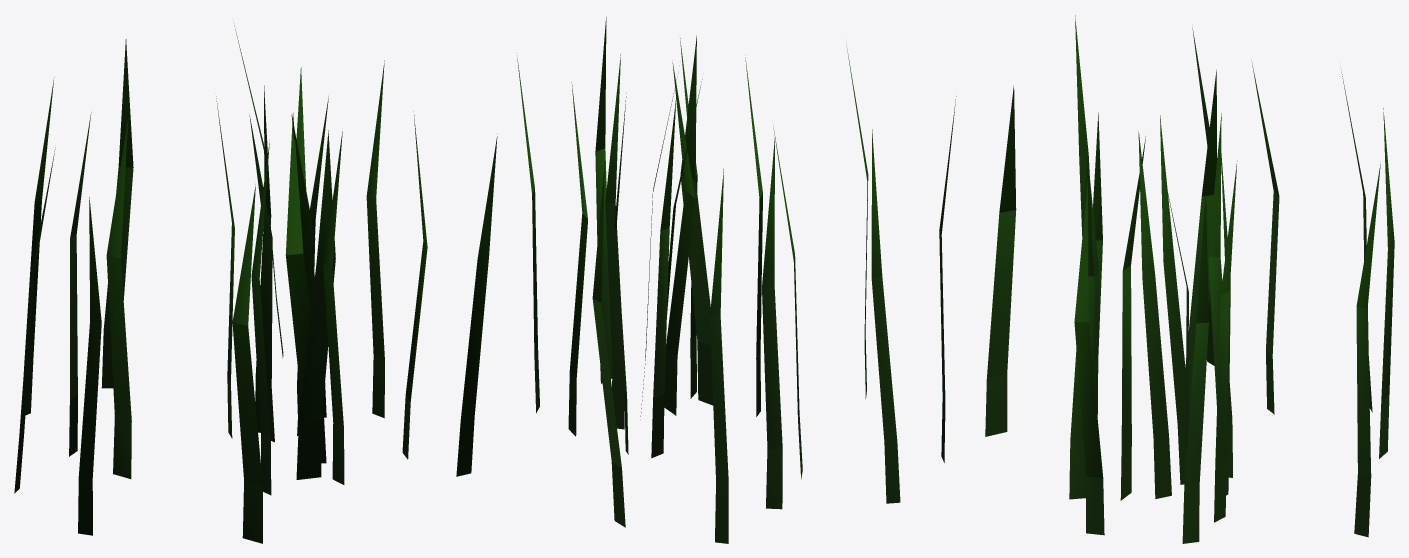
Rendered from Sm_Grass5L.fbx.
3 views of the same model, side by side, from view 1: azimuth 30°, elevation 25°; view 2: azimuth 150°, elevation 25°; view 3: azimuth 270°, elevation 25° (orthographic). The views are drawn at different scales.
Visible parts, largest first — view 1: Sm_Grass5L; view 2: Sm_Grass5L; view 3: Sm_Grass5L.
Part boxes in pixels (<box>): Sm_Grass5L: <box>14,25,427,543</box>; Sm_Grass5L: <box>456,17,956,543</box>; Sm_Grass5L: <box>985,15,1394,543</box>.
Size of the model in its own units: 67.78 by 62.07 by 63.52.
